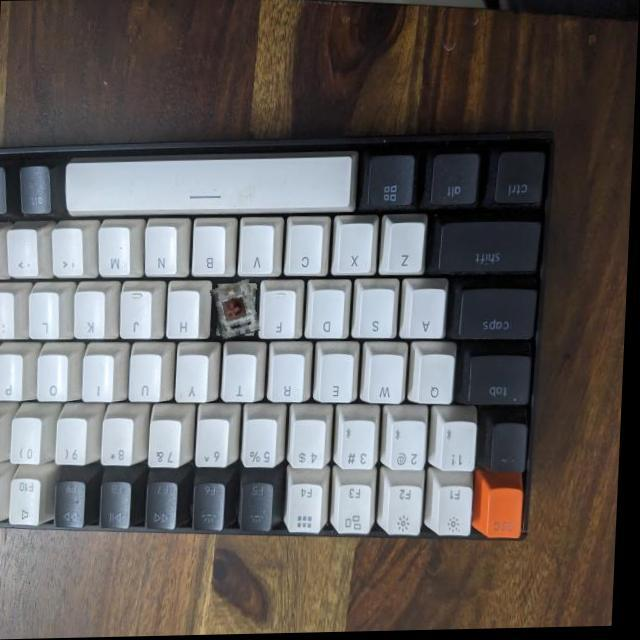key-switch: (213, 281, 261, 340)
